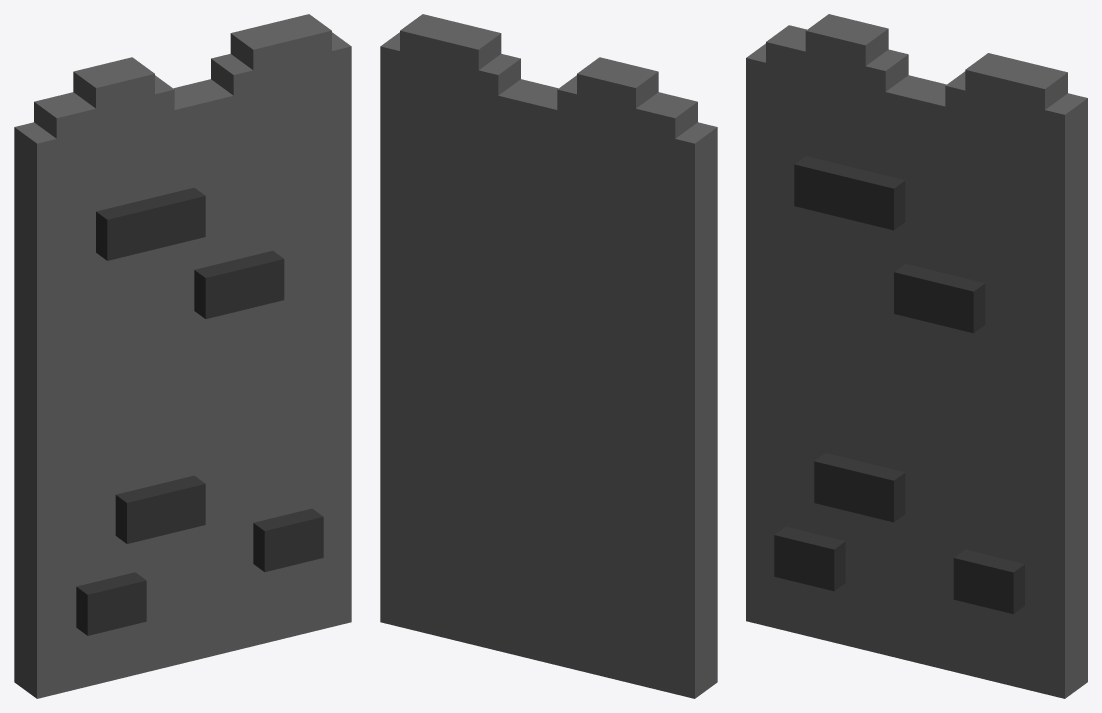
File: wall.obj
3 renders of one model, left to right at view 1: azimuth 30°, elevation 25°; view 2: azimuth 150°, elevation 25°; view 3: azimuth 330°, elevation 25°, orthographic.
Bounding box in the file's own units: 3.2 × 5.8 × 0.6.
Materials: 1 (1 with a texture image).
